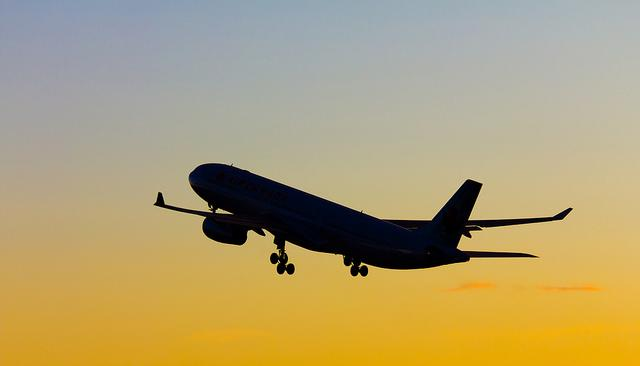airplane: (152, 162, 573, 278)
